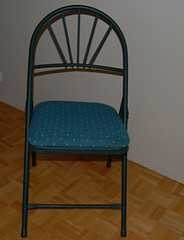obstacle: (22, 5, 127, 236)
